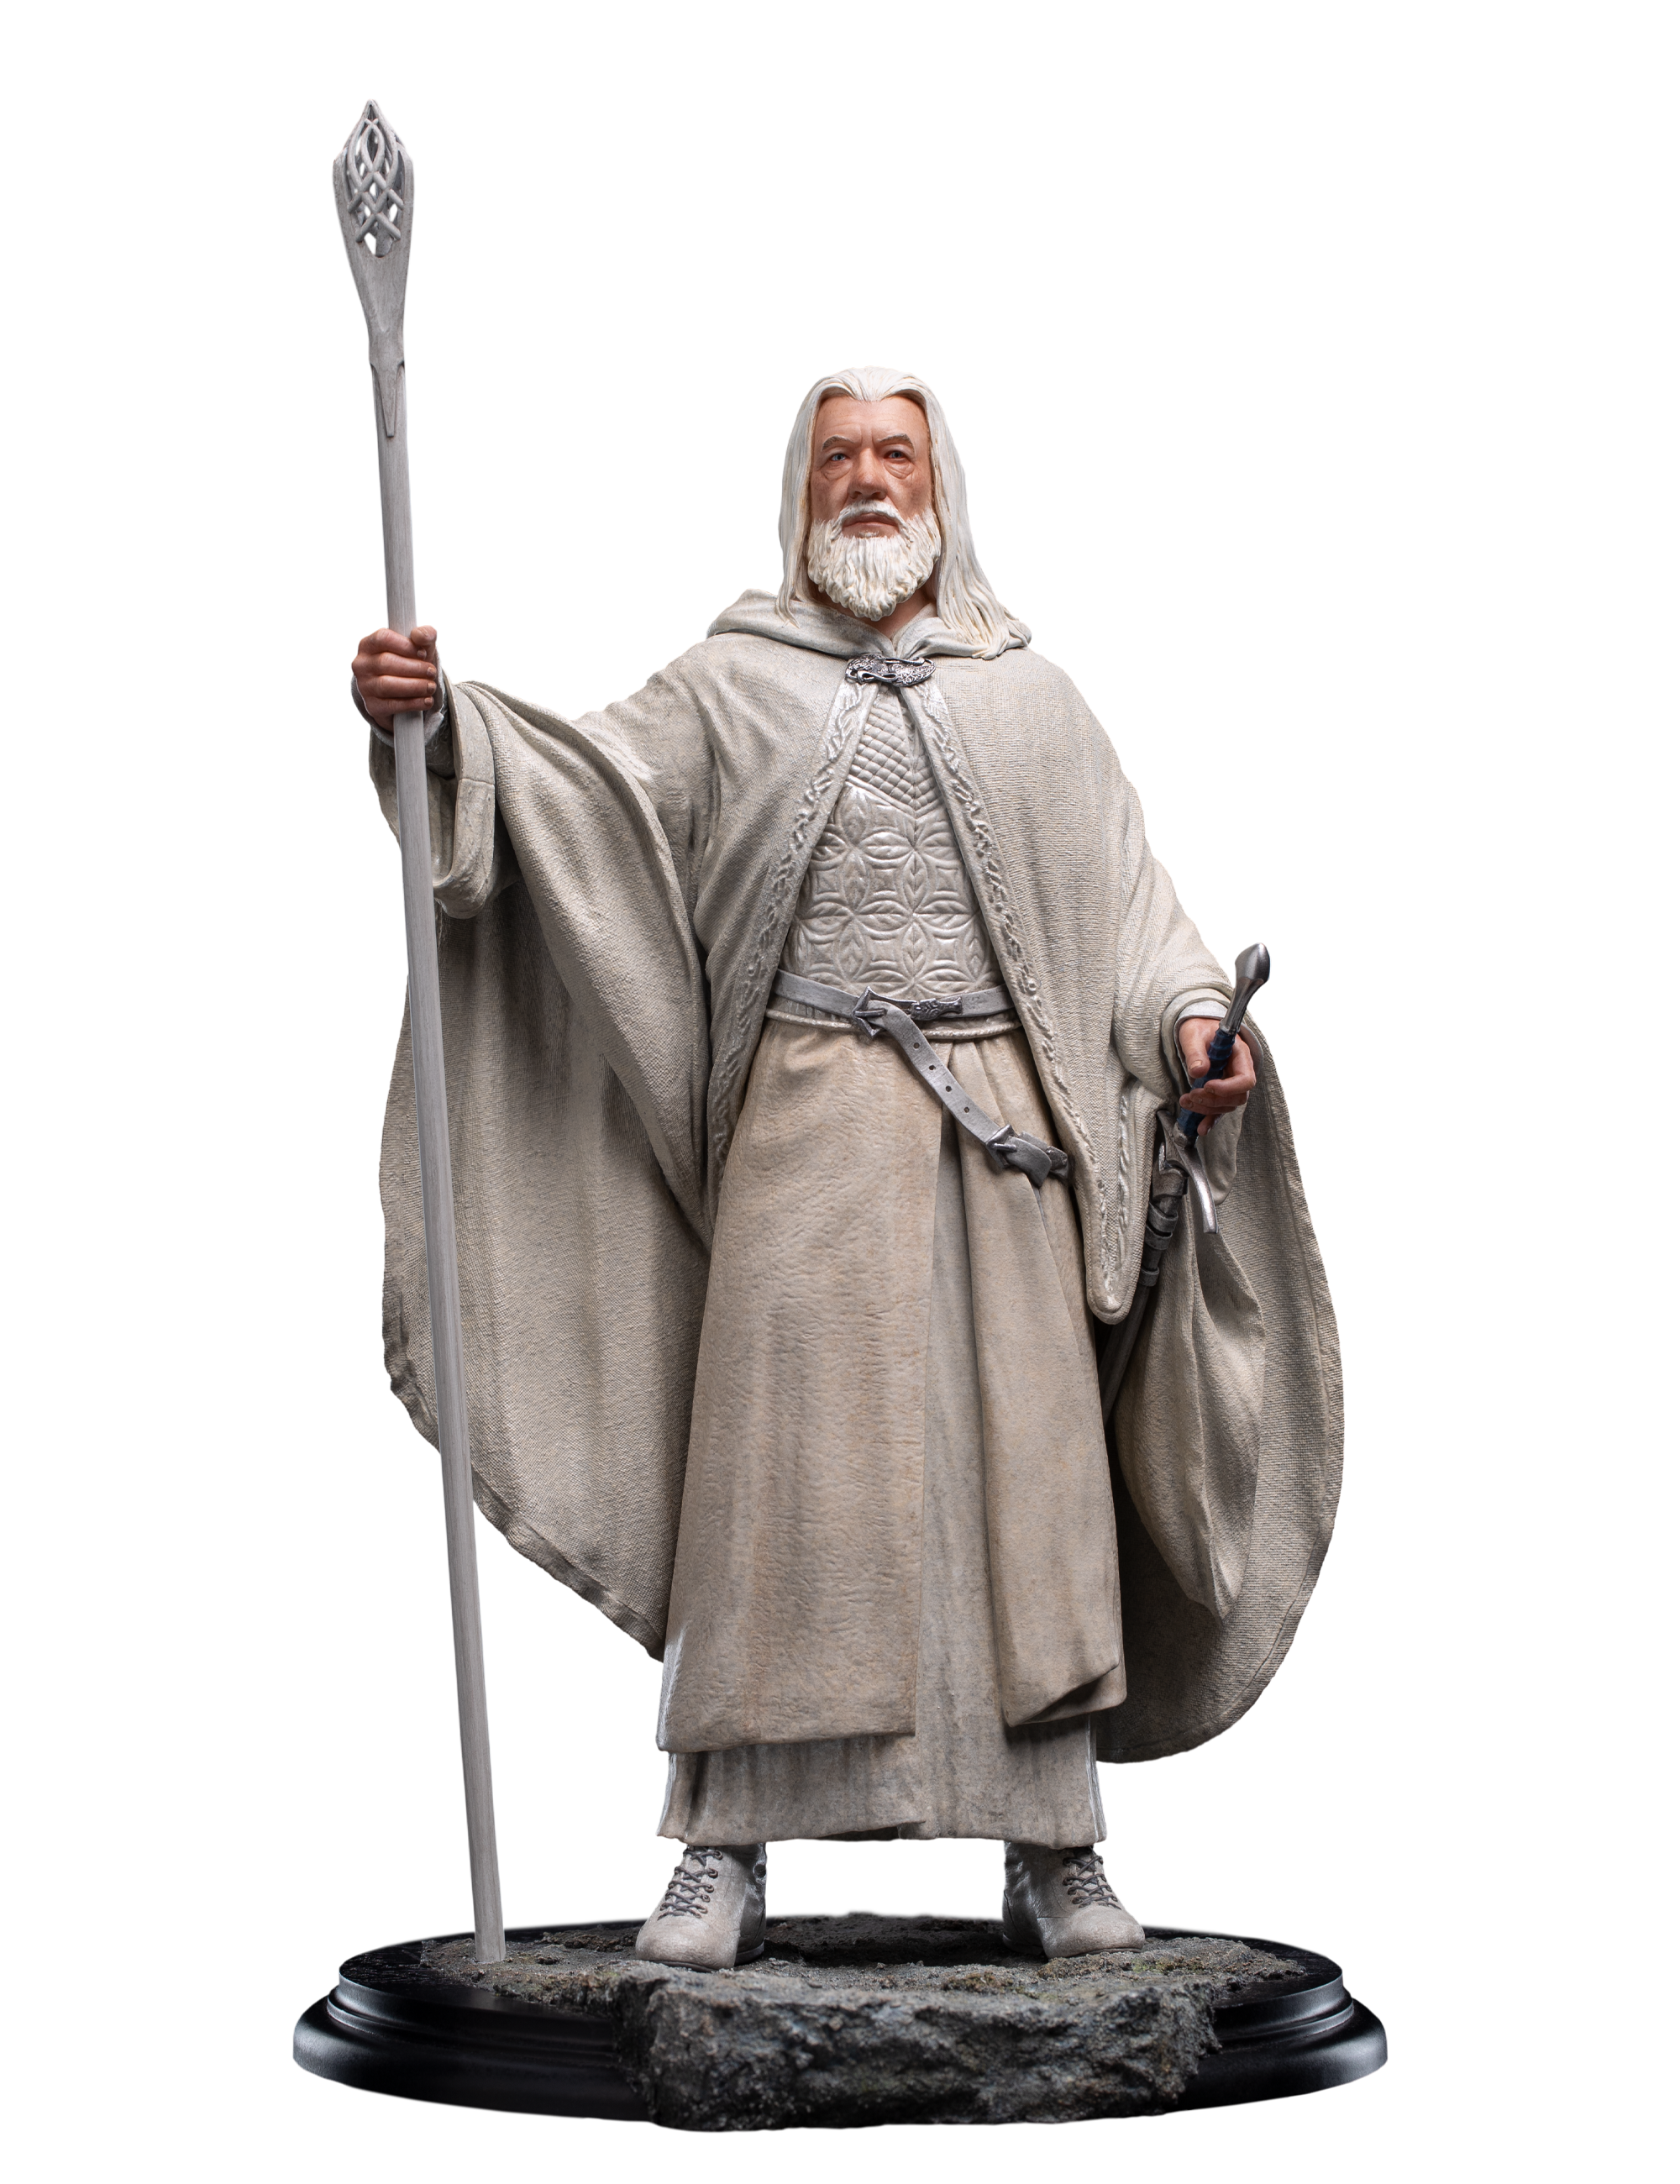gandalf gray: (199, 71, 1572, 1919)
